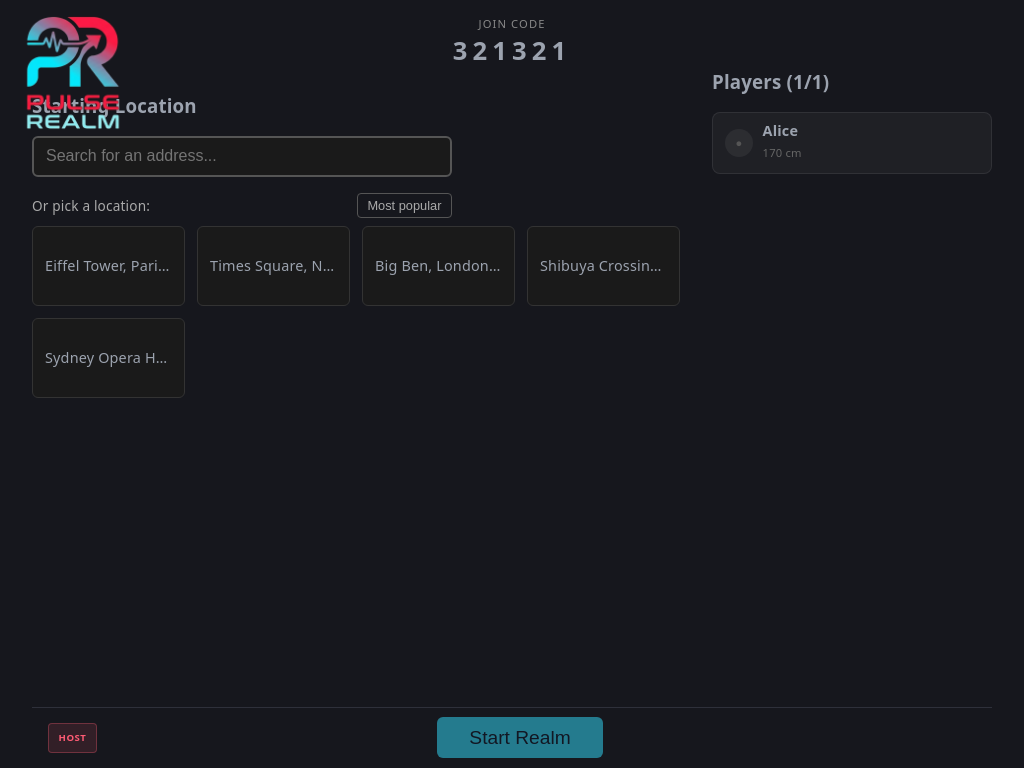
Test case: StreetViewLobby (maps loaded) › selecting a curated location › can select a different curated location
Step 1. Click the text "Times Square, New York, USA" → (274, 266), box [210,254,337,278]
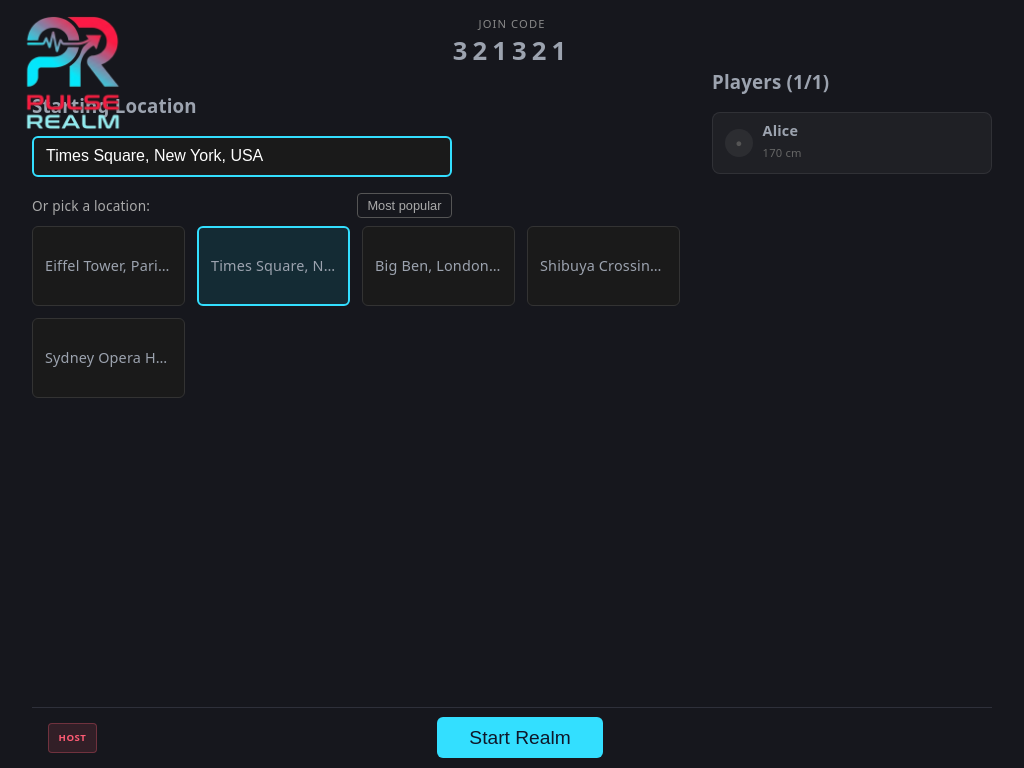
Now the field with placeholder "Search for an address..." holds "Times Square, New York, USA", box [32,136,452,177]
